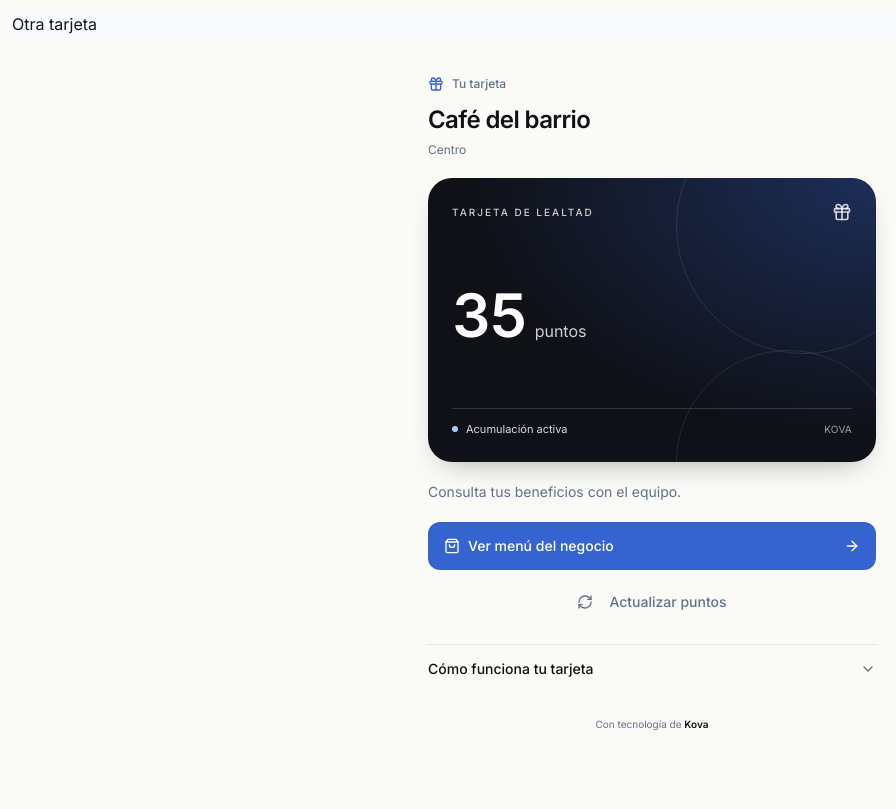
it: reads only the fragment capability without cookies, referrers or a customer lookup
Check: the heading "Café del barrio" is shown, box [428, 105, 590, 134]
Check: the text named "Tus puntos" reads "35", box [452, 279, 527, 351]
Click the heading "Cómo funciona tu tarjeta" at (511, 668), box [428, 660, 876, 676]
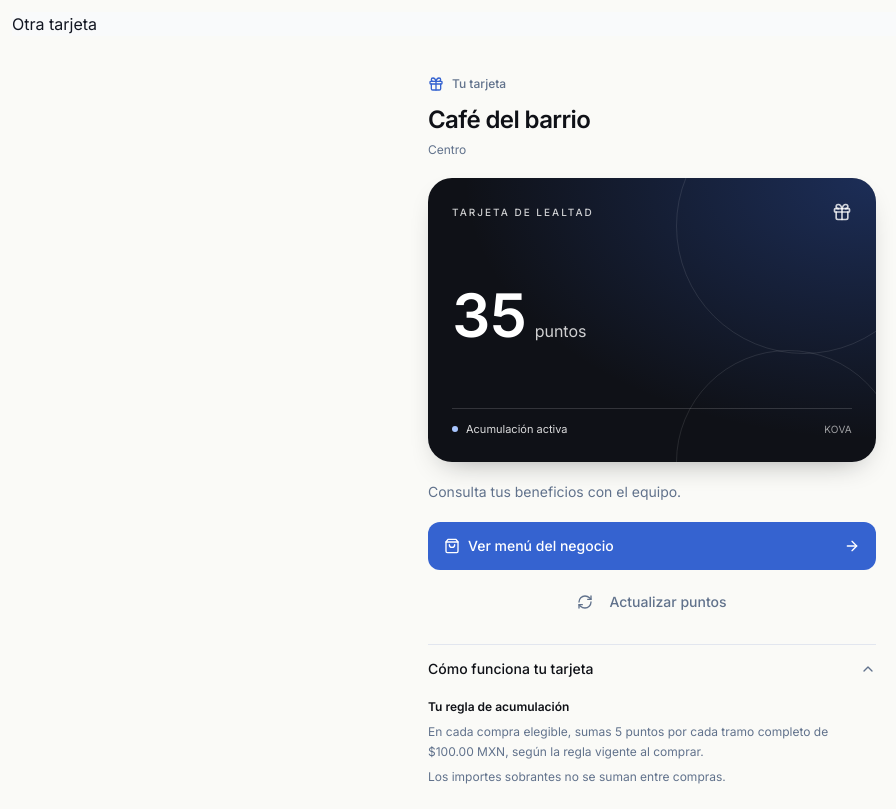
Check: the text "En cada compra elegible, sumas 5 puntos por cada tramo completo de $100.00 MXN" is shown, box [428, 724, 828, 758]
Check: the text "Los importes sobrantes no se suman entre compras." is shown, box [428, 769, 726, 784]
